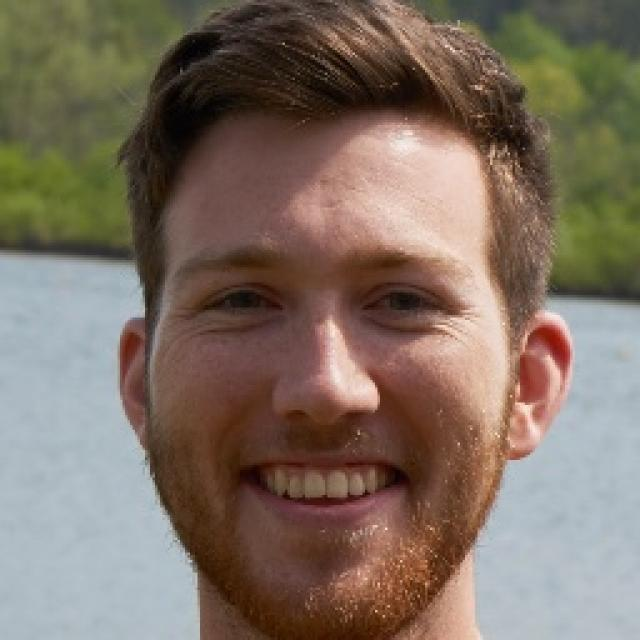earlobe: (506, 406, 547, 462), (128, 408, 148, 453)
eye: (360, 284, 447, 317), (196, 287, 286, 318)
nose: (273, 409, 377, 448)
wholeear: (507, 312, 574, 460), (119, 315, 148, 452)
